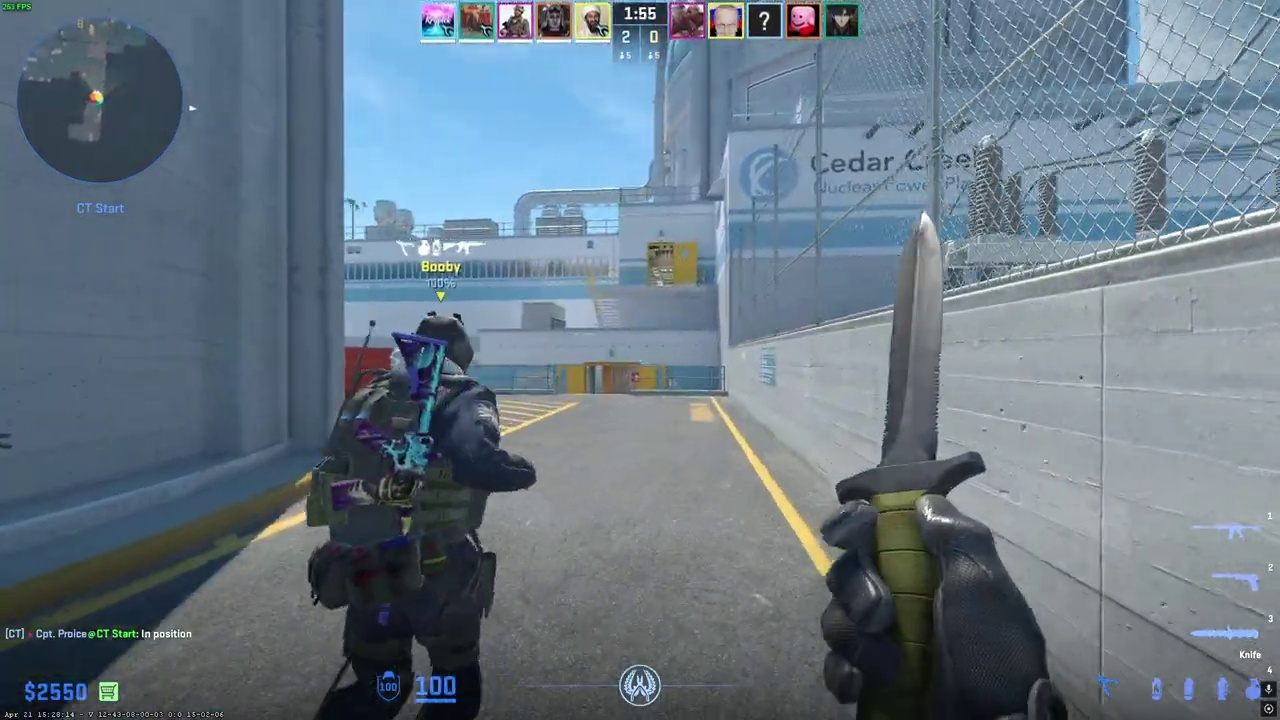CT: (304, 314, 524, 720)
